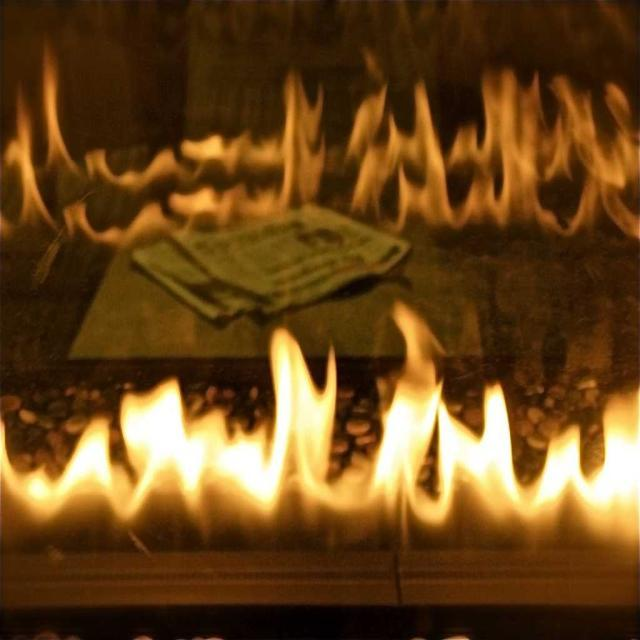Fire: (476, 74, 640, 228), (399, 319, 515, 535), (145, 406, 275, 526), (3, 422, 142, 526), (355, 91, 466, 217), (273, 326, 343, 514), (528, 432, 632, 544), (167, 148, 287, 221), (14, 88, 58, 224), (284, 84, 320, 214), (364, 398, 392, 538)
